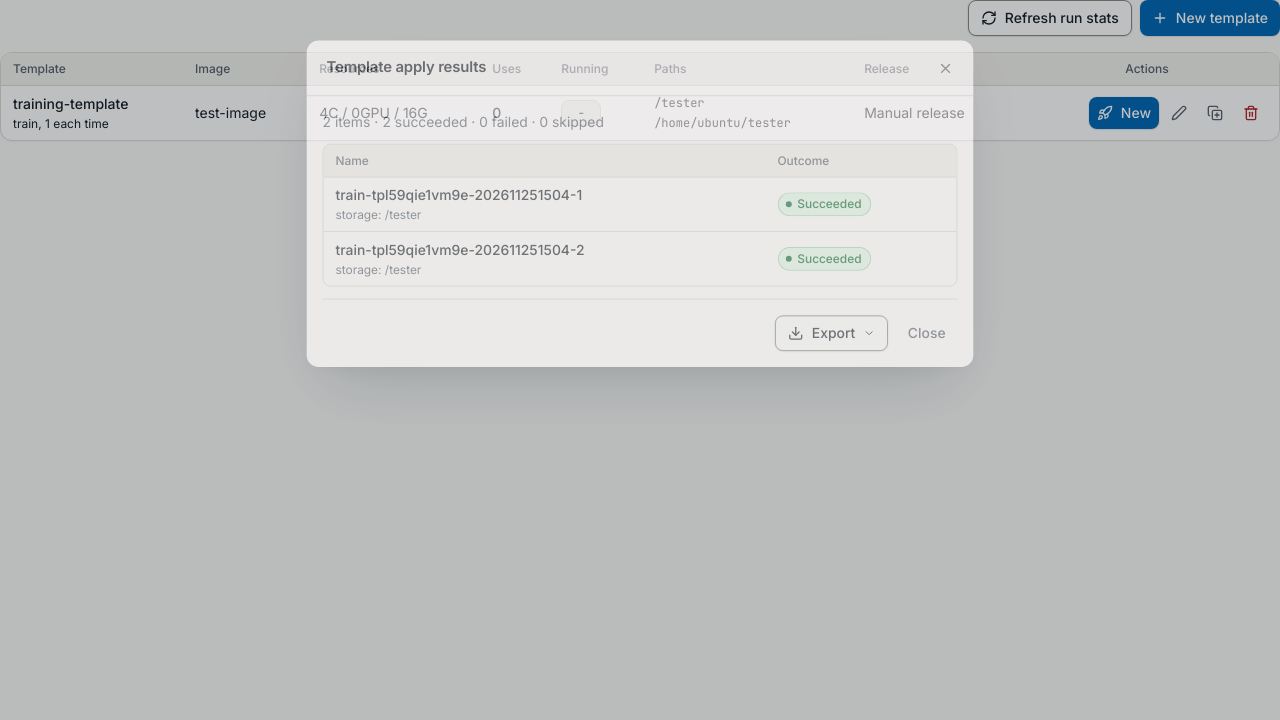
Test: TaskTemplatesPage billable batch flows › does not retry an unknown create and resolves a matching remote task without another POST
The width and height of the screenshot is (1280, 720).
Click the button "New" at (1124, 113), box [1089,97,1159,129]
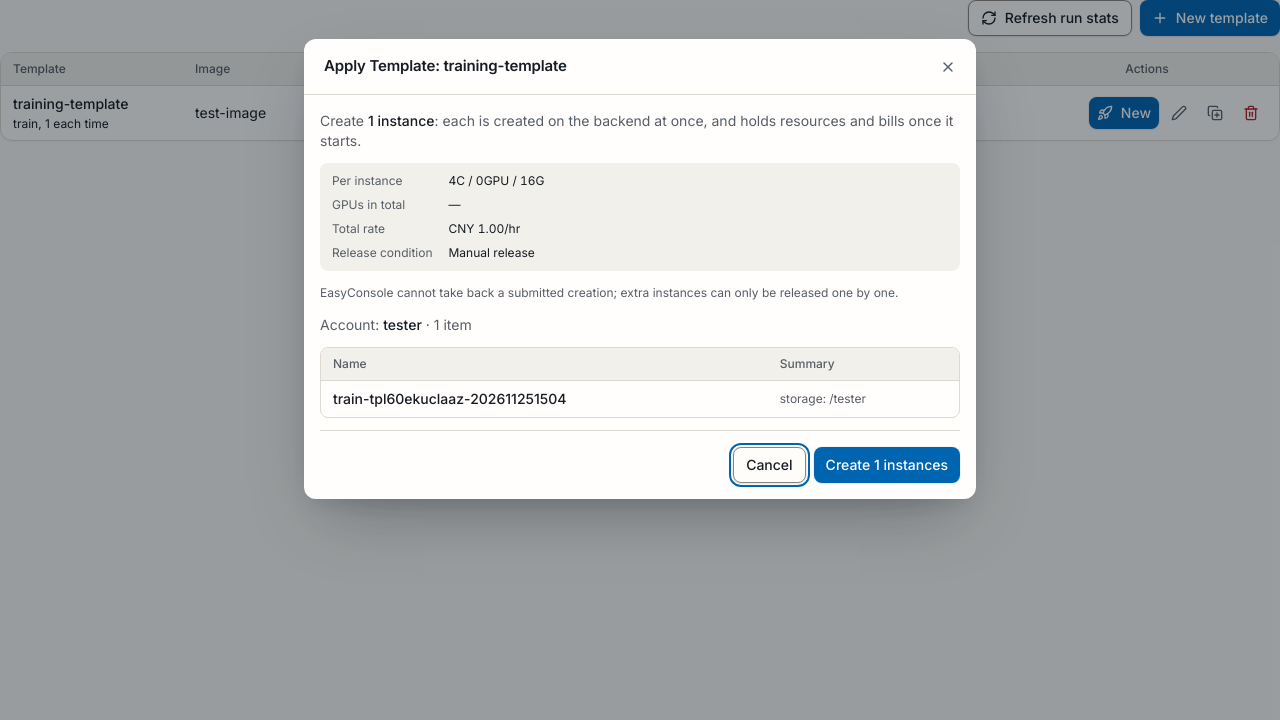
Click the button "Create 1 instances" at (887, 465), box [814,447,960,483]
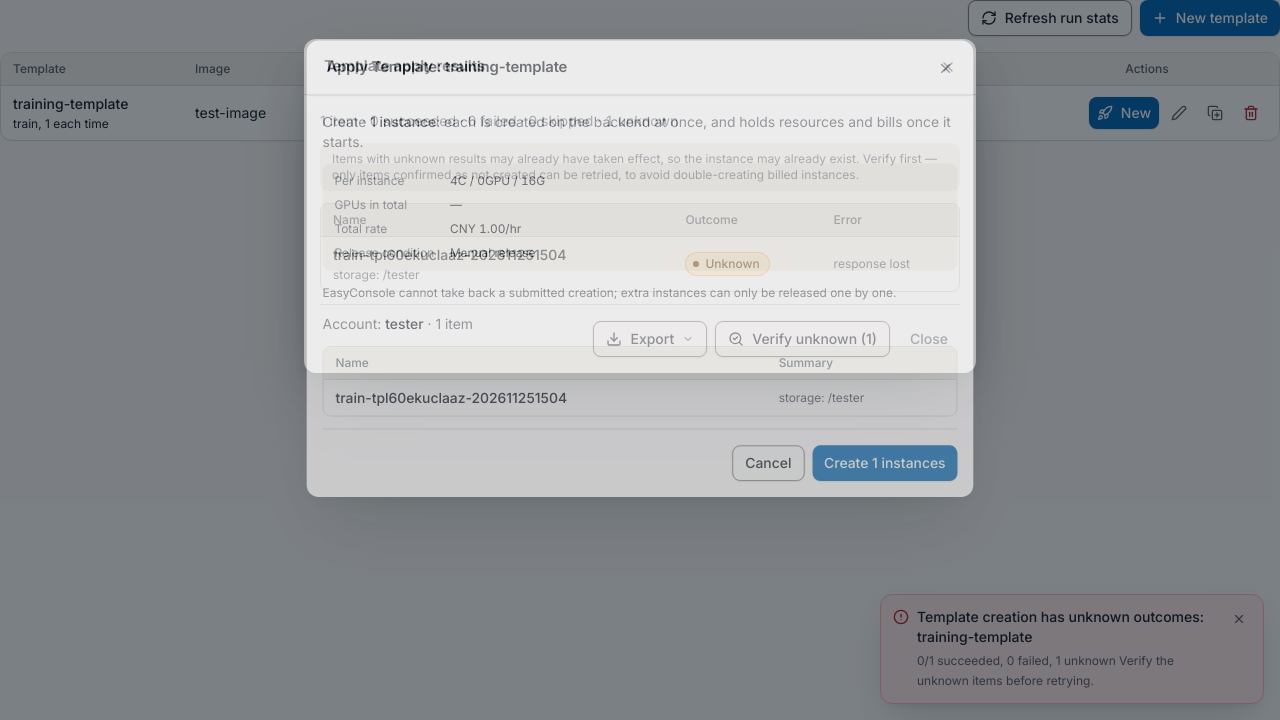
Click the button "Verify unknown (1)" at (803, 339), box [715,321,890,357]
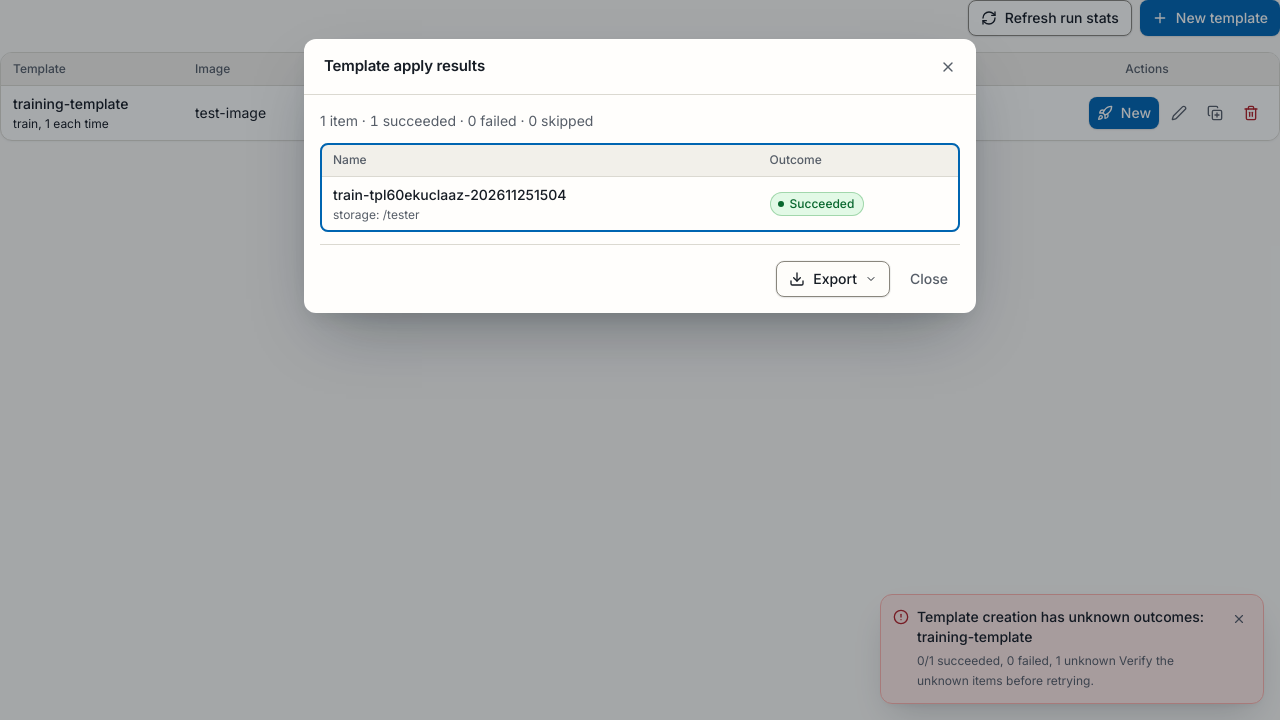
Expected: the message with test id "batch-result-summary" reads "1 item · 1 succeeded · 0 failed · 0 skipped", [370,112,593,129]
